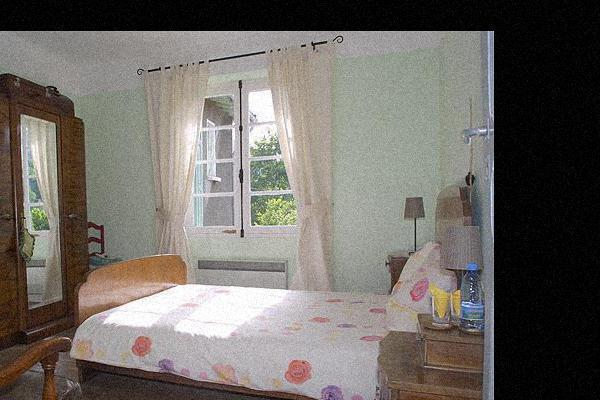Armario: (0, 84, 84, 334)
Otro Obstaculo: (196, 256, 289, 291)
